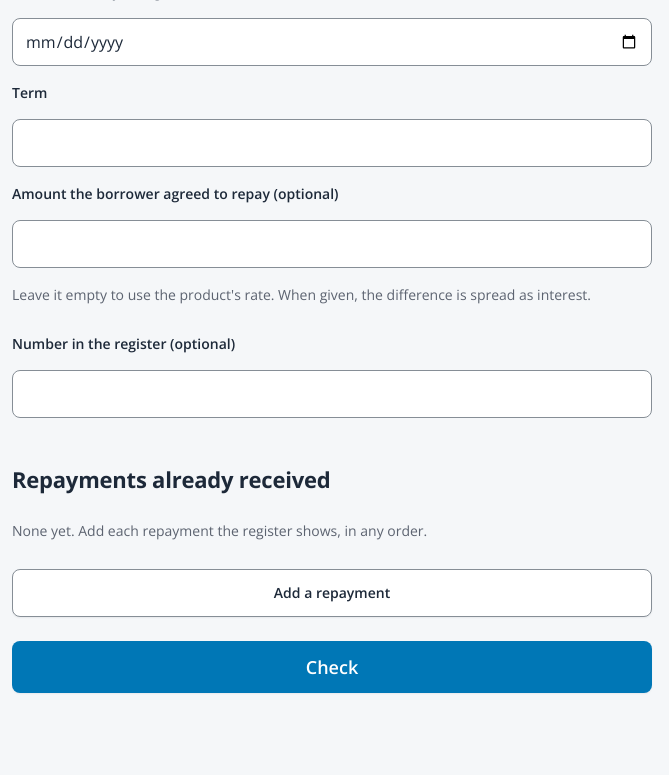
Scenario: recording an existing loan › sends nothing while an entry cannot be right
(page scrolled)
Click the button "Check" at (332, 667), box [12,641,652,693]
(page scrolled)
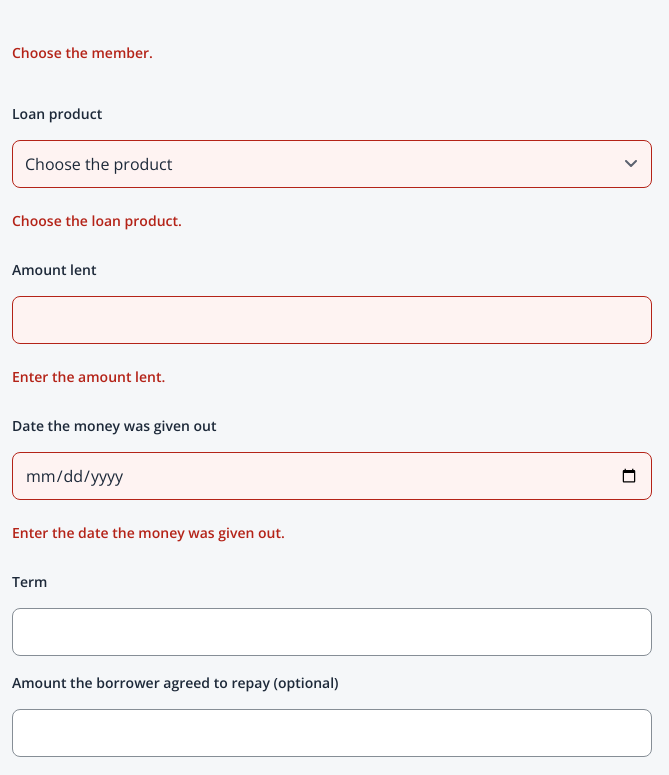
Check: the text "Choose the member." is shown, box [12,43,153,62]
Check: the text "Enter the amount lent." is shown, box [12,367,165,386]
